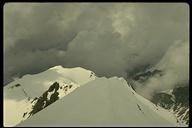cloud: (11, 4, 189, 63)
mountain: (7, 65, 185, 125)
snow: (78, 83, 124, 125)
